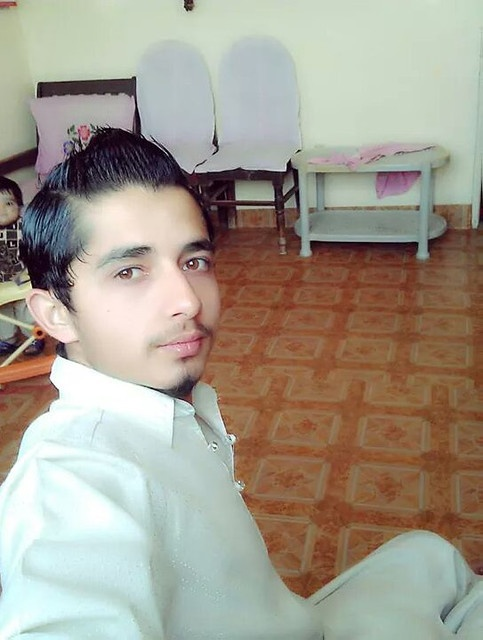without_mask: (53, 177, 236, 399)
